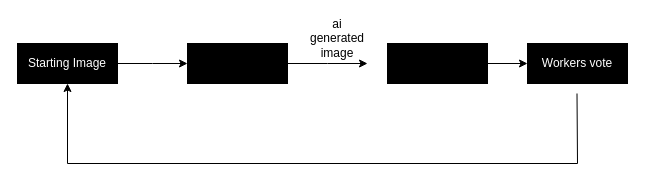
Some shapes in this 645 by 189 pixel diagram are drawn without their labels. The shapes that lost their labels are listed below. From the top down, each one's centre as x and y in pixels, then its label:
At point 237,63: "Workers Suggestions".
At point 437,63: "Images dataset".
